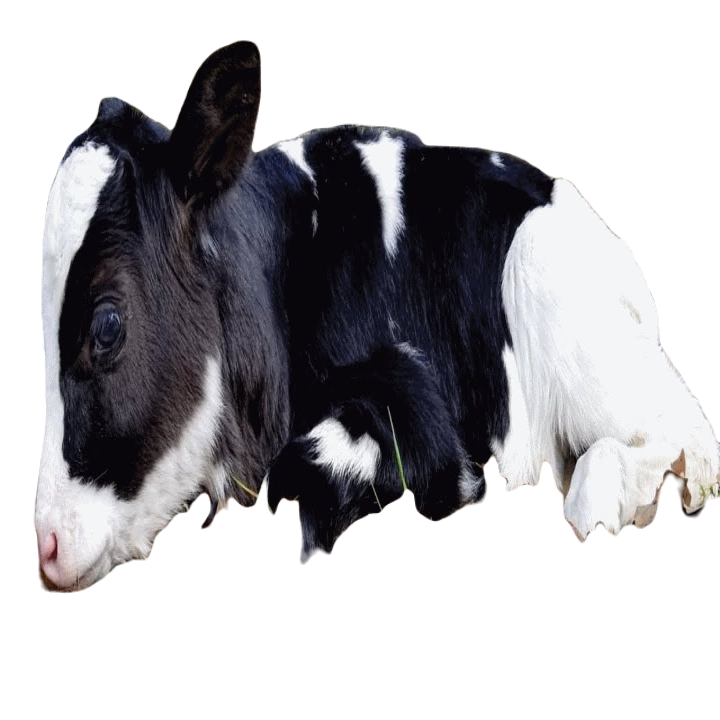Cow: (30, 40, 720, 594)
